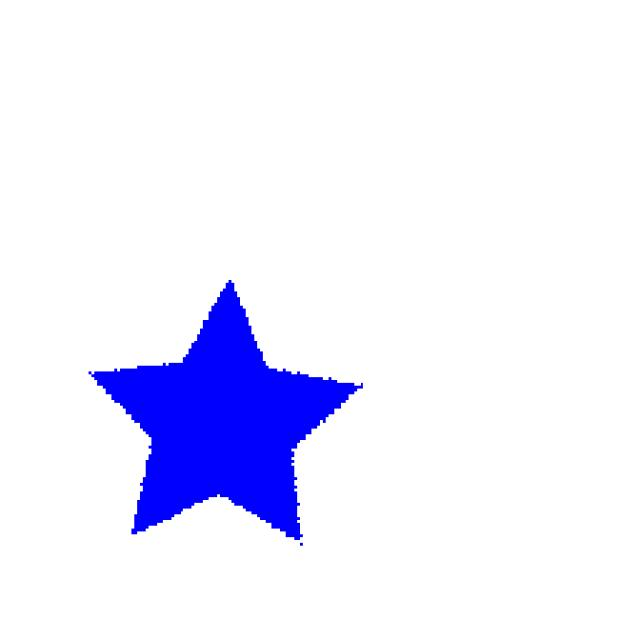Star: (60, 253, 404, 573)
